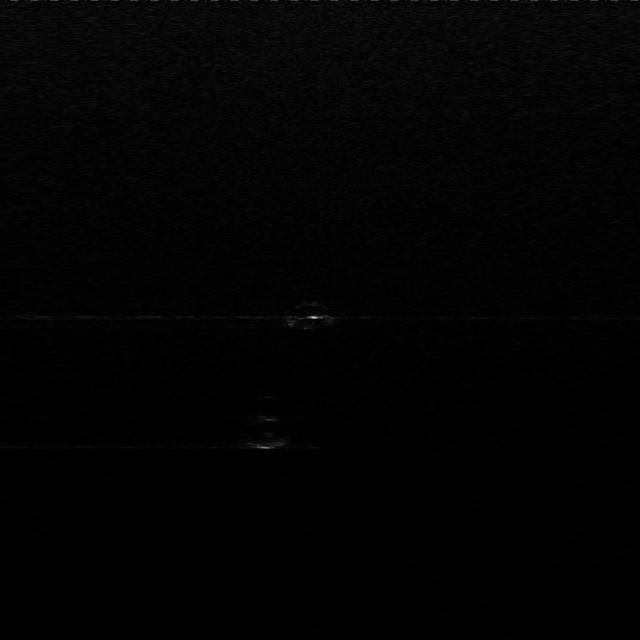ball: (237, 402, 301, 452)
tyre: (274, 295, 340, 335)
